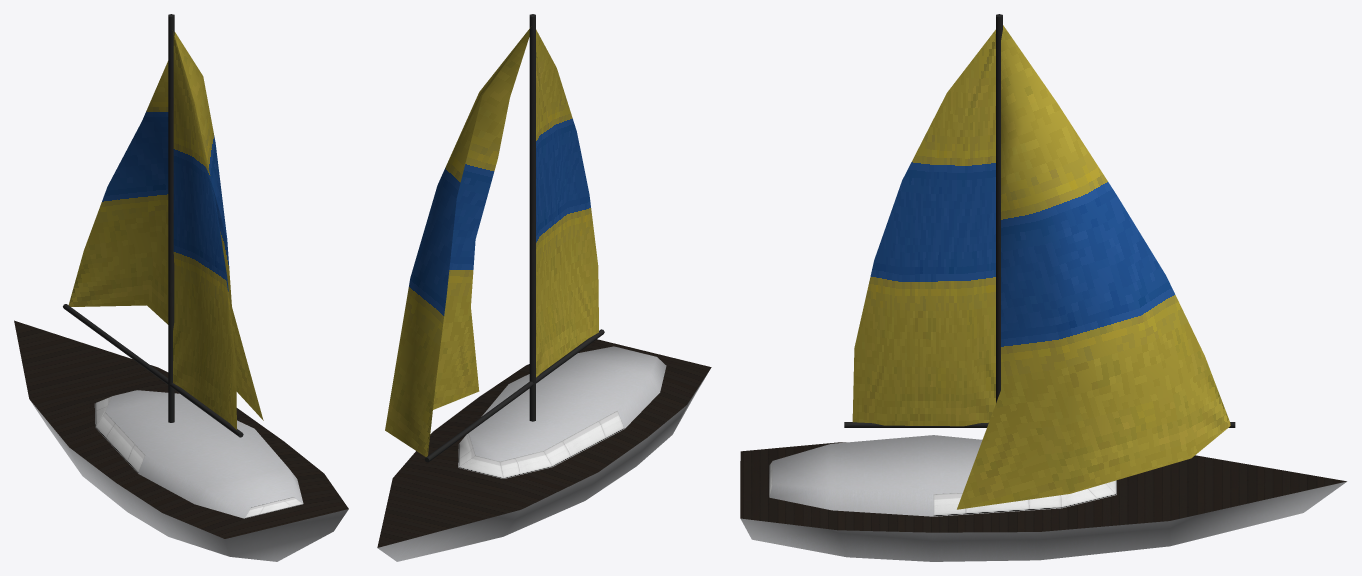
Rendered from p6_vista_boat_sail_04_lod0.glb.
3 views of the same model, side by side, from view 1: azimuth 30°, elevation 25°; view 2: azimuth 150°, elevation 25°; view 3: azimuth 270°, elevation 25° (orthographic). The views are drawn at different scales.
Visible parts, largest first — view 1: surf3, surf0, surf2, surf4, surf1; view 2: surf3, surf0, surf2, surf4, surf1; view 3: surf3, surf0, surf2, surf1, surf4.
Boxes of the visible parts, box(x1,y1,x2,y2) form: surf3: box(68, 30, 263, 429); surf0: box(31, 390, 348, 561); surf2: box(14, 320, 348, 538); surf4: box(63, 14, 243, 437); surf1: box(94, 396, 303, 518); surf3: box(385, 26, 598, 456); surf0: box(377, 346, 709, 561); surf2: box(377, 339, 711, 547); surf4: box(424, 14, 604, 462); surf1: box(458, 398, 624, 478); surf3: box(852, 25, 1230, 509); surf0: box(741, 435, 1346, 561); surf2: box(740, 442, 1346, 532); surf1: box(769, 461, 1116, 516); surf4: box(844, 14, 1235, 427).
Size of the model in its own units: 160 by 437 by 450.
